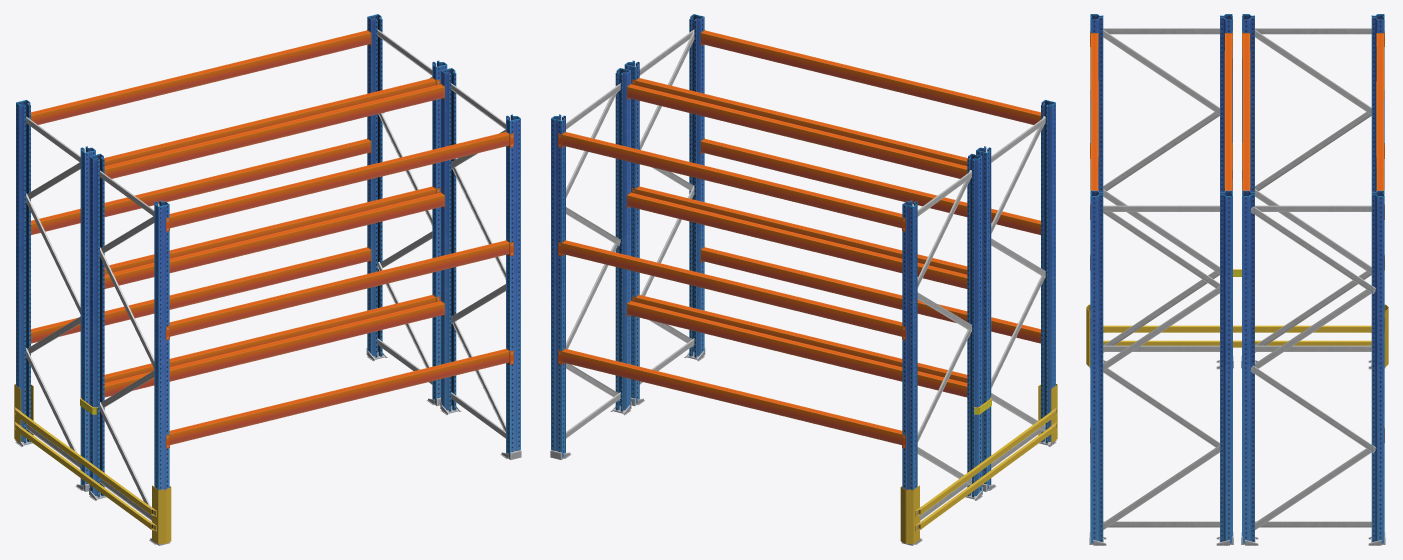
The model's file is 5_Convencional_Grande.fbx.
3 renders of one model, left to right at view 1: azimuth 30°, elevation 25°; view 2: azimuth 150°, elevation 25°; view 3: azimuth 270°, elevation 25°, orthographic. The views are drawn at different scales.
Visible parts, largest first — view 1: Diagonales.016; view 2: Diagonales.016; view 3: Diagonales.016.
Boxes of the visible parts, x1,y1,x2,y2 form: Diagonales.016: [14, 14, 521, 545]; Diagonales.016: [550, 14, 1057, 545]; Diagonales.016: [1086, 14, 1388, 545].
Size of the model in its own units: 284 by 250 by 197.
